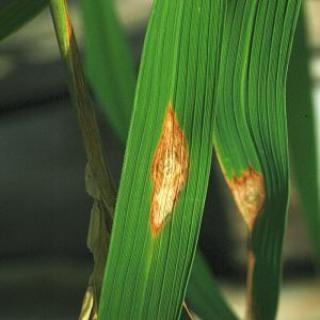Blast: (135, 103, 198, 252)
